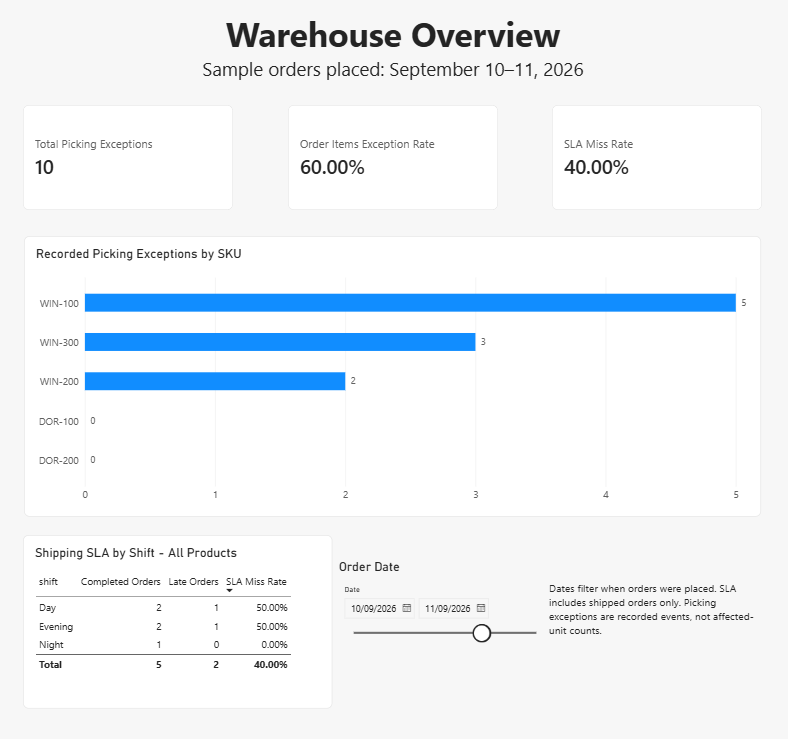

What the dashboard file says about the page in this screenshot:
{"tool":"powerbi","page":{"name":"Warehouse Overview","canvas":[1920,1080],"ordinal":2},"visuals":[{"type":"cardVisual","fields":{"Data":["public order_items.Order Items Exception Rate"]},"box":[767.2,85.6,300,150],"z":0},{"type":"cardVisual","fields":{"Data":["public order_items.Total Picking Exceptions"]},"box":[385,85,300,150],"z":1000},{"type":"cardVisual","fields":{"Data":["public orders.SLA Miss Rate"]},"box":[1137.2,85.6,300,150],"z":2000},{"type":"clusteredBarChart","title":"Recorded Picking Exceptions by SKU","fields":{"Category":["public products.sku"],"Y":["public order_items.Total Picking Exceptions"]},"box":[385,295.6,1052.2,401.1],"z":3000},{"type":"tableEx","title":"Shipping SLA by Shift - All Products","fields":{"Values":["public orders.shift","public orders.Completed Orders","public orders.Late Orders","public orders.SLA Miss Rate"]},"box":[385,733.8,441.7,248.3],"z":4000},{"type":"slicer","title":"Order Date","fields":{"Values":["DimDate.Date"]},"box":[848.8,768.8,300,150],"z":5000},{"type":"textbox","box":[1148.8,830,303.8,88.8],"z":5001}]}

Visuals, with their boxes on the page's 1920x1080 design canvas (x1, y1, x2, y2). These are canvas units, not pixel positions in the 788x739 screenshot, which may show the page scaled, cropped or inside an application window:
cardVisual - public order_items.Order Items Exception Rate: box(767, 86, 1067, 236)
cardVisual - public order_items.Total Picking Exceptions: box(385, 85, 685, 235)
cardVisual - public orders.SLA Miss Rate: box(1137, 86, 1437, 236)
"Recorded Picking Exceptions by SKU" clusteredBarChart: box(385, 296, 1437, 697)
"Shipping SLA by Shift - All Products" tableEx: box(385, 734, 827, 982)
"Order Date" slicer: box(849, 769, 1149, 919)
textbox: box(1149, 830, 1453, 919)
